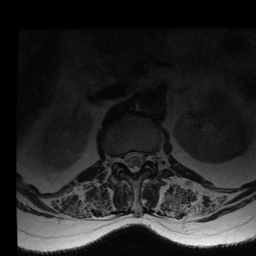CCS_normal: (130, 144, 138, 181)
LFS_normal: (146, 147, 154, 170)
LLS_normal: (137, 146, 146, 171)
RFS_stenosis: (114, 148, 123, 169)
RLS_normal: (123, 147, 131, 173)
